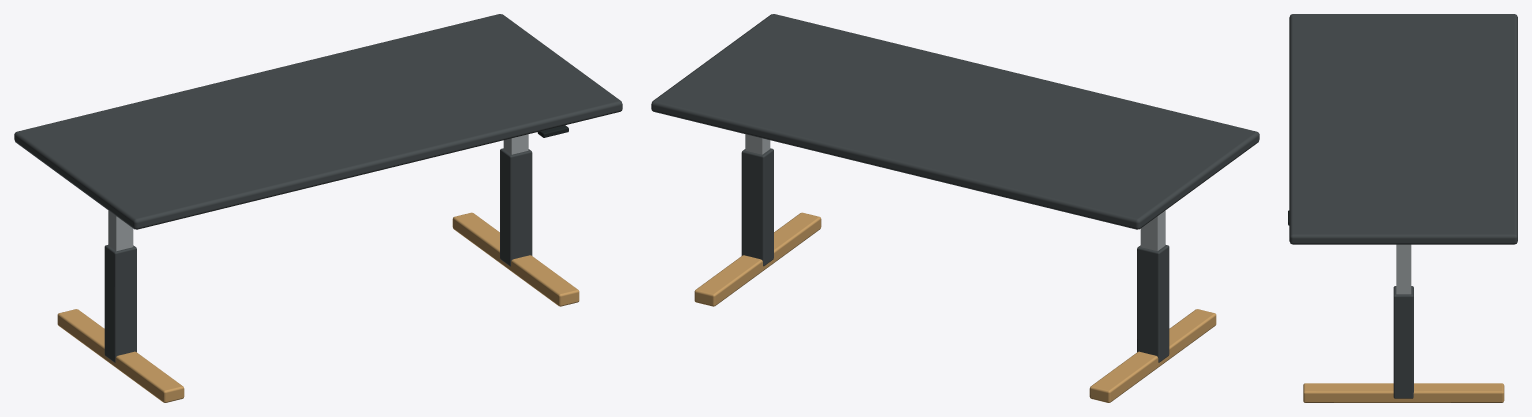
File: desk_dual_motor-4df993466385.glb
3 renders of one model, left to right at view 1: azimuth 30°, elevation 25°; view 2: azimuth 150°, elevation 25°; view 3: azimuth 270°, elevation 25°, orthographic. The views are drawn at different scales.
Parts seen in each view (by area): view 1: surface_graphite, surface_brass, surface_steel; view 2: surface_graphite, surface_brass, surface_steel; view 3: surface_graphite, surface_brass, surface_steel.
Boxes of the visible parts, x1,y1,x2,y2 form: surface_graphite: (14, 14, 622, 362); surface_brass: (57, 212, 579, 402); surface_steel: (108, 134, 528, 251); surface_graphite: (651, 14, 1259, 362); surface_brass: (694, 212, 1216, 402); surface_steel: (745, 134, 1165, 251); surface_graphite: (1289, 14, 1517, 398); surface_brass: (1303, 383, 1504, 402); surface_steel: (1396, 244, 1411, 294).
Size of the model in its own units: 1.94 by 0.75 by 0.8452.
